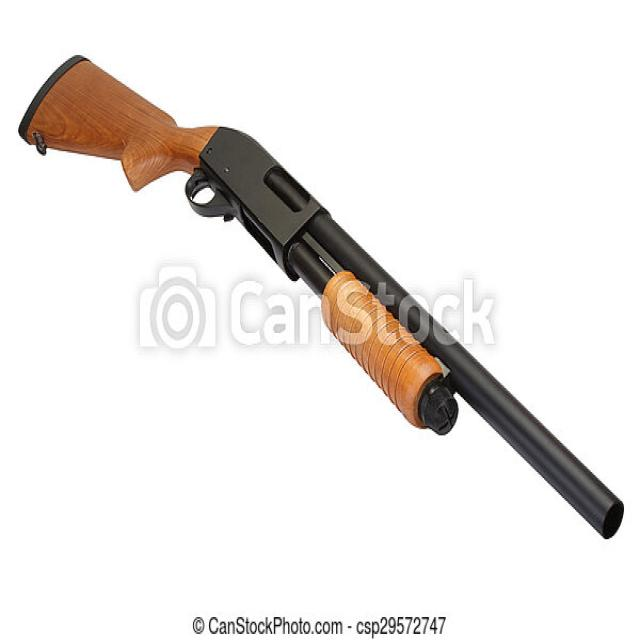ShotGun: (18, 57, 627, 541)
